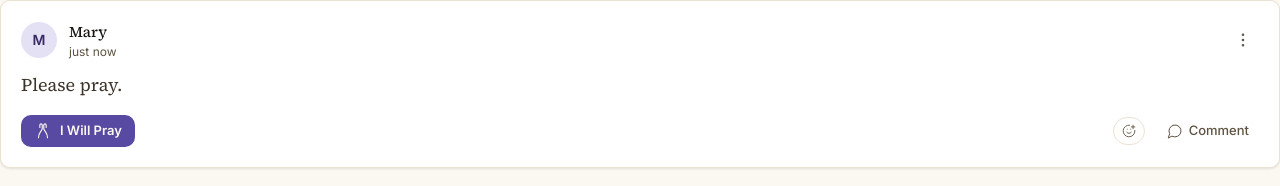
Scenario: PostCard kebab menu › renders the kebab button for a non-own post and exposes Report in its menu
Click the button named "more actions". click: (1243, 40)
box: top-left (1227, 24), bottom-right (1259, 56)
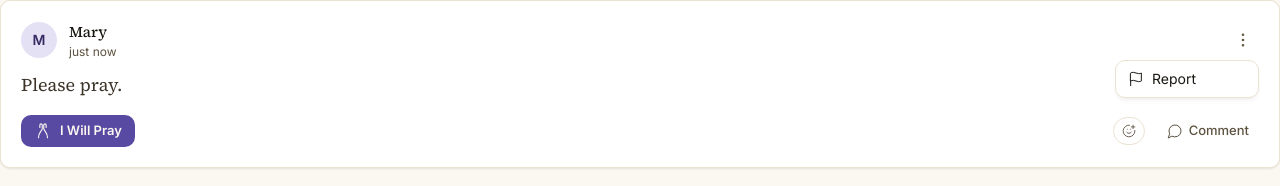
Expected: the menu item "Report" is shown, top-left (1116, 61), bottom-right (1258, 97)
